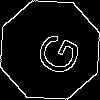G: (25, 25, 84, 80)
